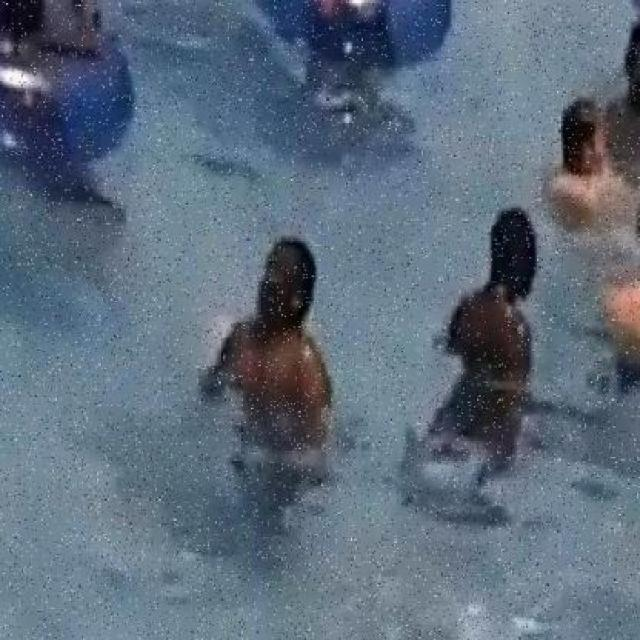drowning: (448, 214, 547, 381), (242, 240, 320, 414), (558, 99, 617, 238)
